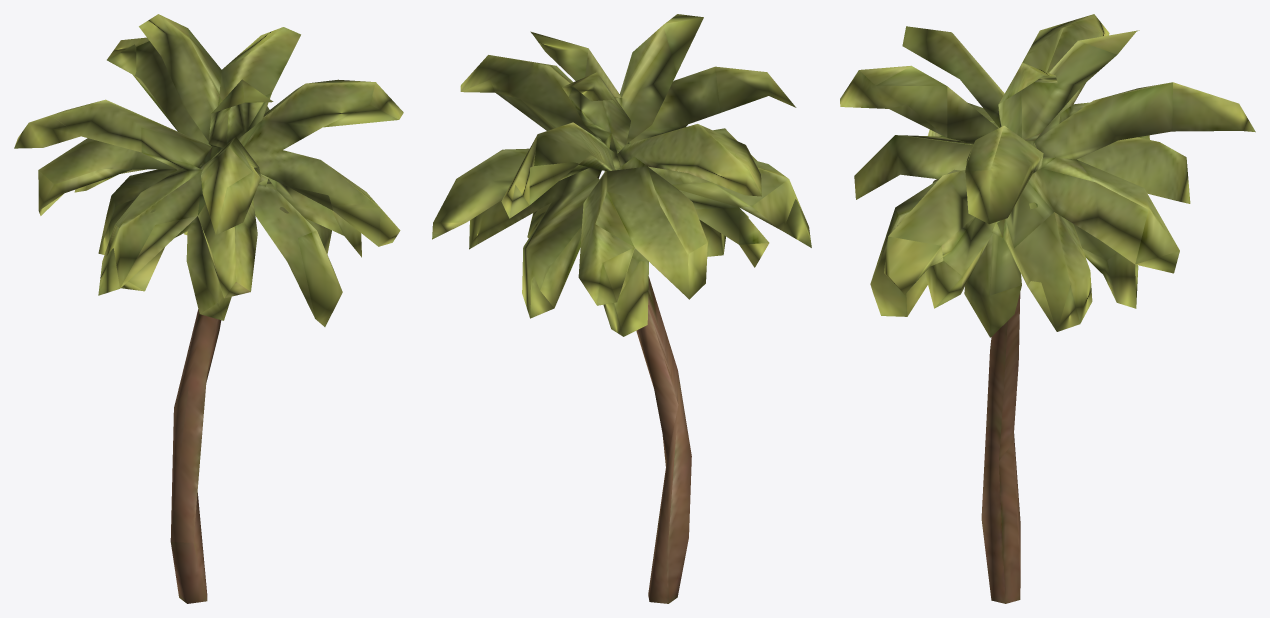
Rendered from palm_b_far.glb.
The picture shows the model from 3 angles, left to right: view 1: azimuth 30°, elevation 25°; view 2: azimuth 150°, elevation 25°; view 3: azimuth 270°, elevation 25°; orthographic projection. The views are drawn at different scales.
Parts seen in each view (by area): view 1: body; view 2: body; view 3: body.
Part boxes in pixels (x1,y1,x2,y2): body: (14, 14, 403, 603); body: (432, 14, 811, 603); body: (840, 14, 1255, 603).
Bounding box in the file's own units: 4.34 × 6.5 × 4.23.
Materials: 2 (2 with a texture image).
